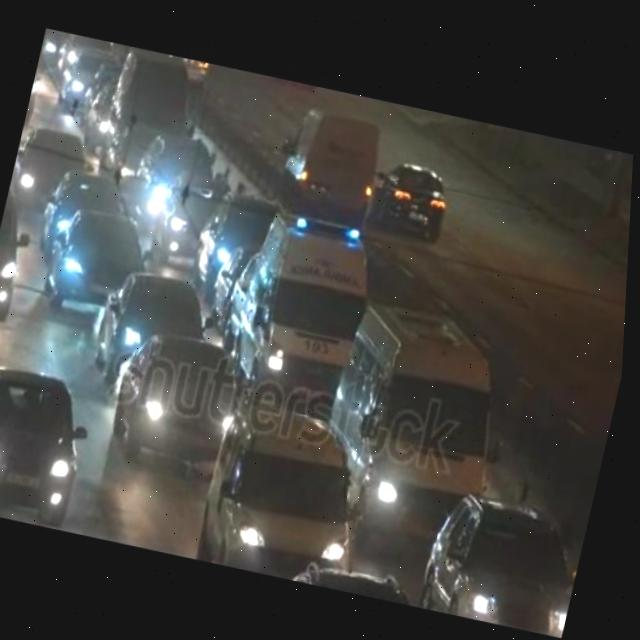emergency: (233, 207, 384, 399)
